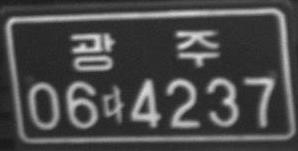0: (26, 79, 62, 132)
2: (164, 76, 202, 131)
3: (204, 75, 241, 130)
4: (127, 76, 162, 129)
6: (63, 78, 100, 131)
7: (242, 74, 277, 130)
광주_D: (67, 27, 223, 73)
다: (101, 83, 126, 127)
